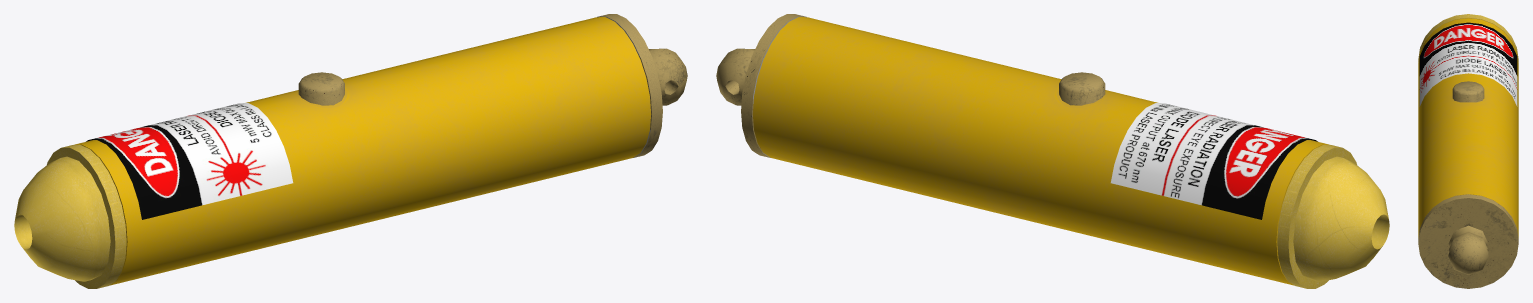
File: laser_pointer.glb
3 views of the same model, side by side, from view 1: azimuth 30°, elevation 25°; view 2: azimuth 150°, elevation 25°; view 3: azimuth 270°, elevation 25° (orthographic). The views are drawn at different scales.
Parts seen in each view (by area): view 1: Base.003, Label.001, Top.001, Bottom.002, Top_ring.002, Button.002; view 2: Base.003, Label.001, Top.001, Bottom.002, Top_ring.002, Button.002; view 3: Base.003, Bottom.002, Label.001, Button.002, Top_ring.002.
Boxes of the visible parts, x1,y1,x2,y2 form: Base.003: [74, 17, 651, 285]; Label.001: [86, 103, 293, 219]; Top.001: [14, 156, 110, 281]; Bottom.002: [597, 14, 687, 157]; Top_ring.002: [47, 145, 126, 288]; Button.002: [298, 72, 344, 105]; Base.003: [752, 17, 1329, 285]; Label.001: [1110, 103, 1317, 219]; Top.001: [1293, 156, 1389, 281]; Bottom.002: [716, 14, 806, 157]; Top_ring.002: [1277, 145, 1356, 288]; Button.002: [1059, 72, 1105, 105]; Base.003: [1418, 18, 1518, 237]; Bottom.002: [1418, 194, 1518, 288]; Label.001: [1419, 22, 1517, 106]; Button.002: [1452, 81, 1484, 102]; Top_ring.002: [1418, 14, 1518, 62].
Bounding box in the file's own units: 841 × 175 × 161.
1 material, 1 textured.
